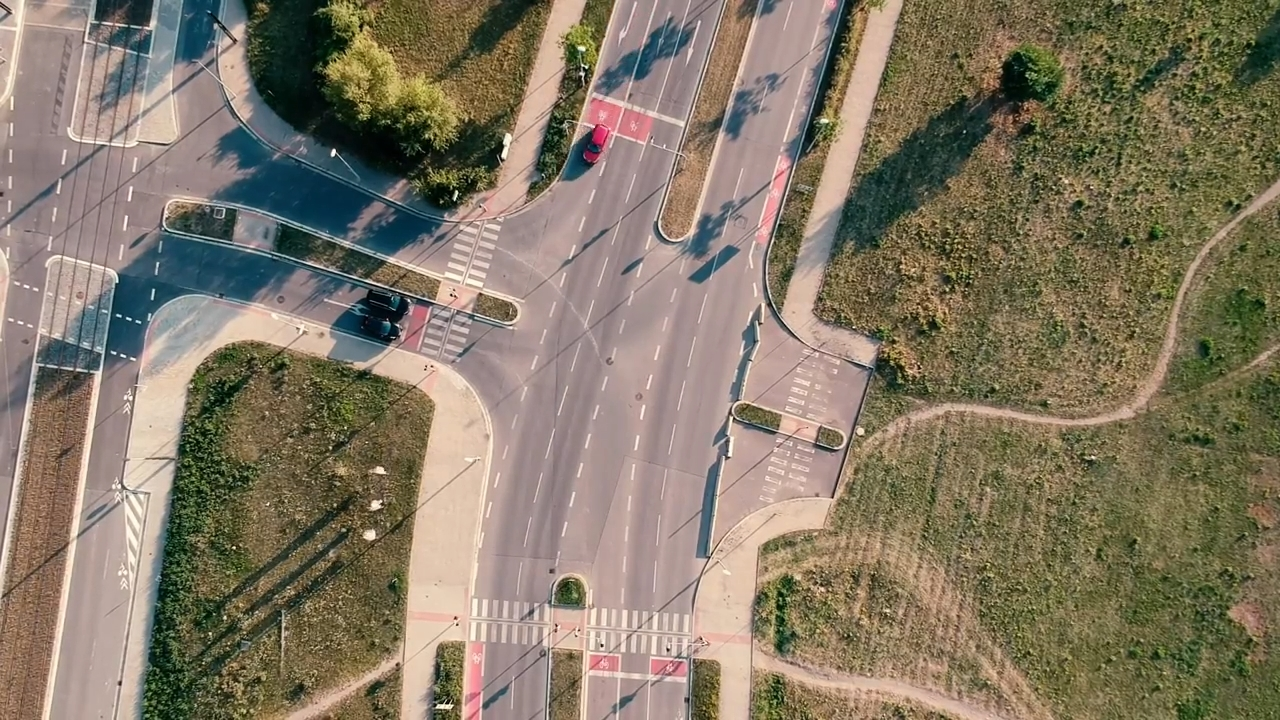car: (367, 288, 410, 316), (362, 313, 403, 341), (583, 124, 609, 166)
